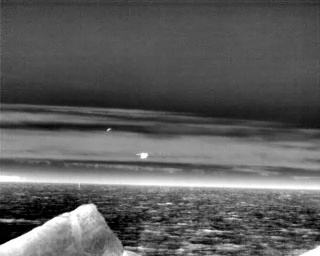HELICOPTER: (135, 149, 152, 163)
